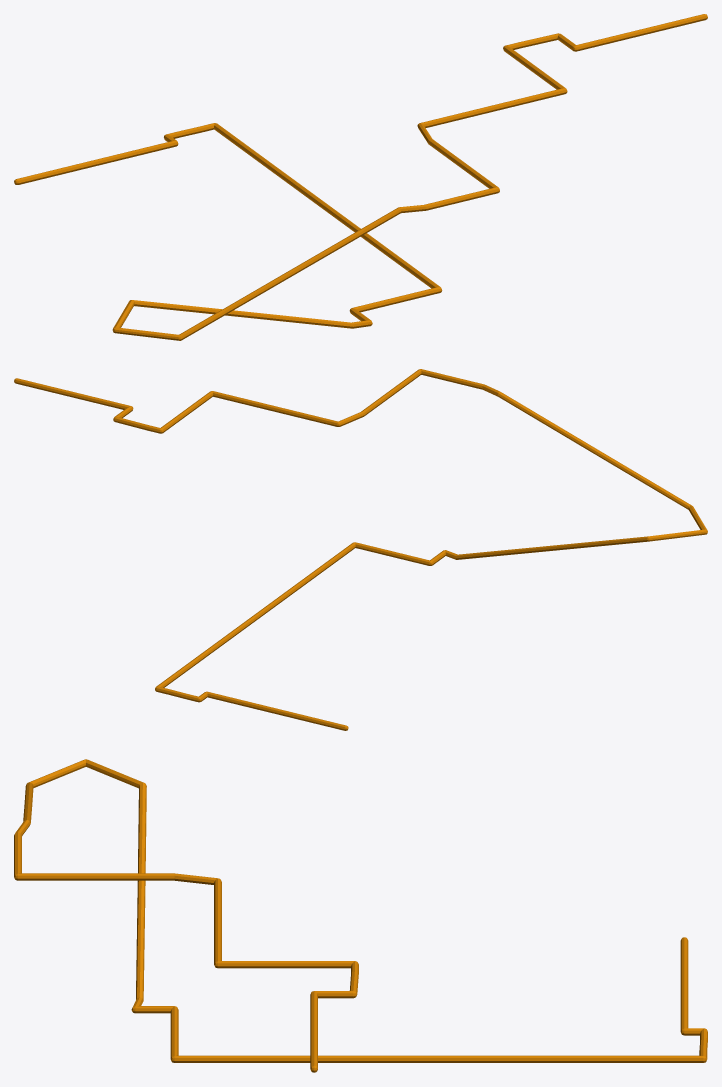
3 renders of one model, top to bottom at view 1: azimuth 30°, elevation 25°; view 2: azimuth 150°, elevation 25°; view 3: azimuth 270°, elevation 25°, orthographic. The views are drawn at different scales.
Bounding box in the file's own units: 2406 × 520 × 1772.
